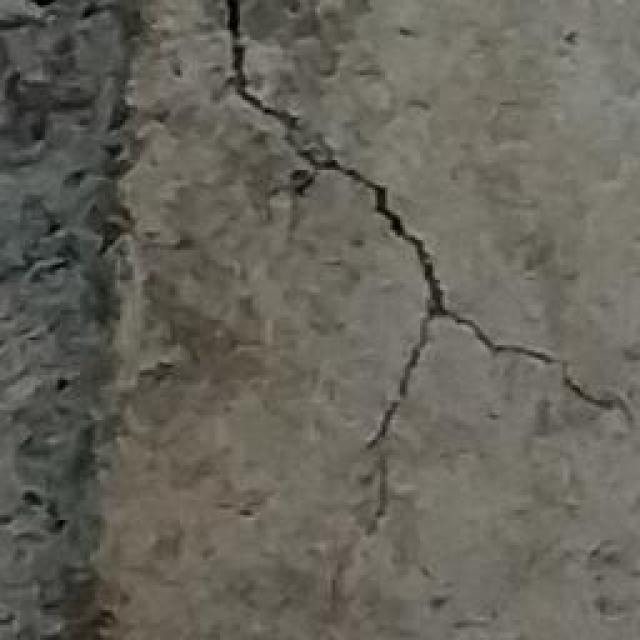Network: (207, 4, 640, 640)
